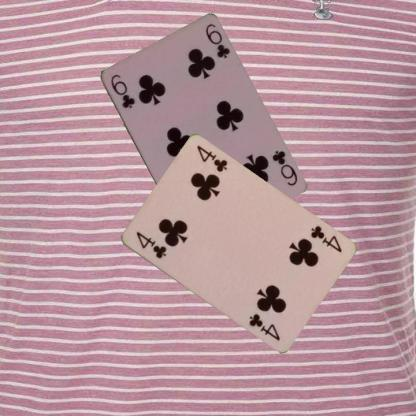4c: (133, 229, 167, 260), (308, 223, 342, 254)
6c: (268, 148, 298, 188), (107, 71, 136, 112)
